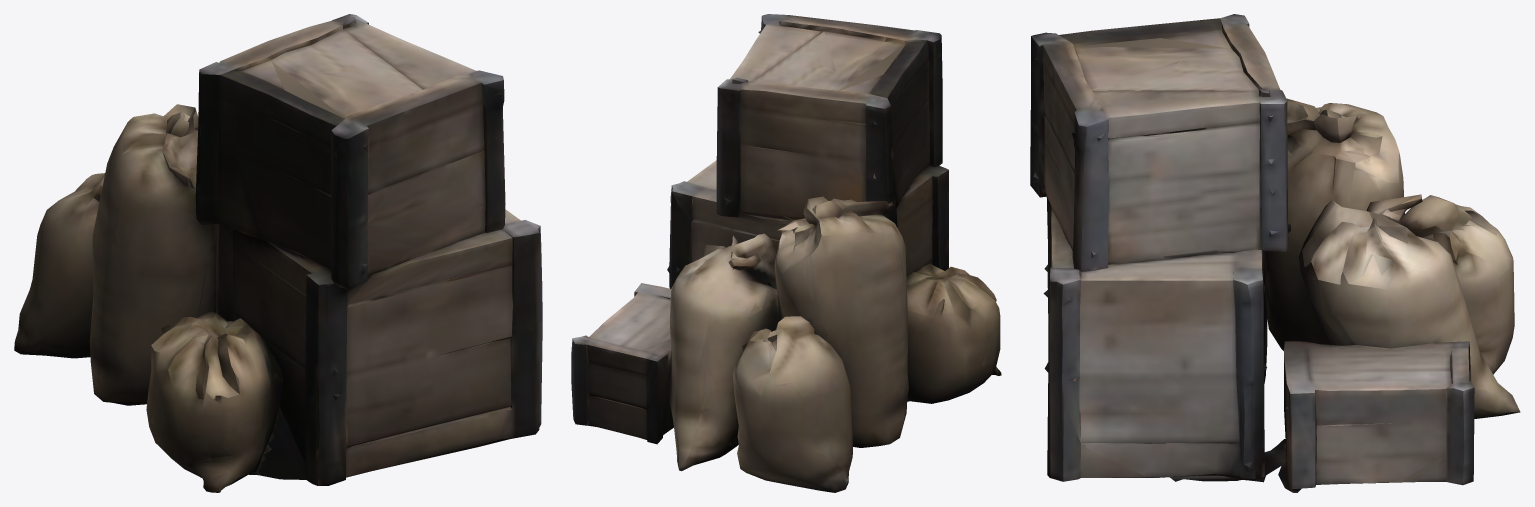
File: prop-crates.glb
3 views of the same model, side by side, from view 1: azimuth 30°, elevation 25°; view 2: azimuth 150°, elevation 25°; view 3: azimuth 270°, elevation 25° (orthographic). The views are drawn at different scales.
Visible parts, largest first — view 1: prop-crates; view 2: prop-crates; view 3: prop-crates.
Part boxes in pixels (x1=…): prop-crates: x1=14, y1=14, x2=542, y2=492; prop-crates: x1=571, y1=14, x2=1001, y2=492; prop-crates: x1=1030, y1=14, x2=1520, y2=492.
Size of the model in its own units: 1.74 by 1.71 by 2.14.
Materials: 1 (1 with a texture image).
